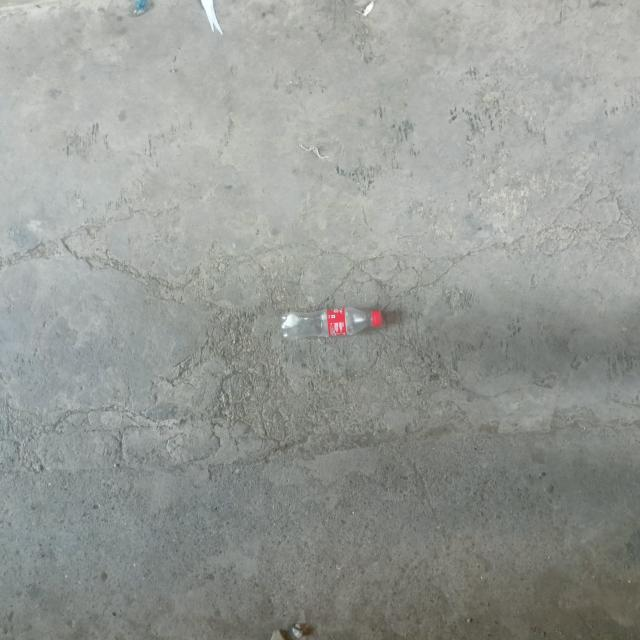Bottle: (281, 307, 381, 339)
